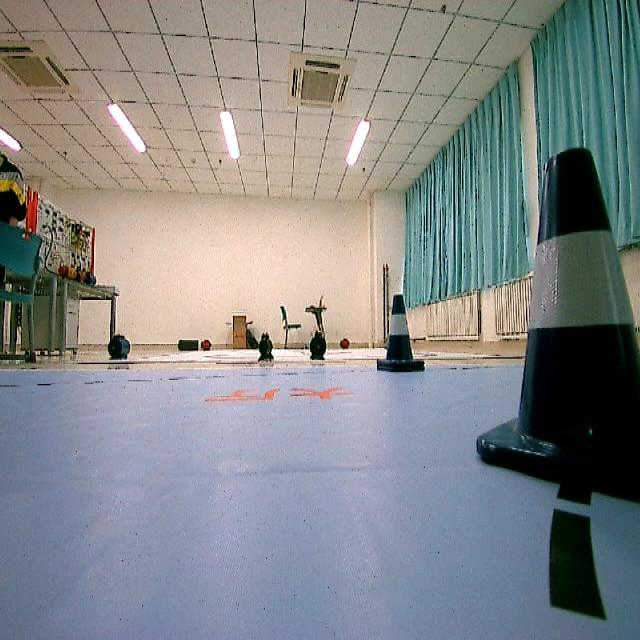obstacle: (471, 144, 640, 531), (376, 292, 430, 379)
